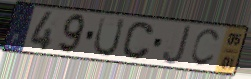4: (29, 10, 54, 52)
9: (57, 13, 86, 55)
C: (120, 21, 156, 62), (188, 28, 222, 69)
J: (162, 24, 193, 66)
U: (91, 15, 127, 58)
